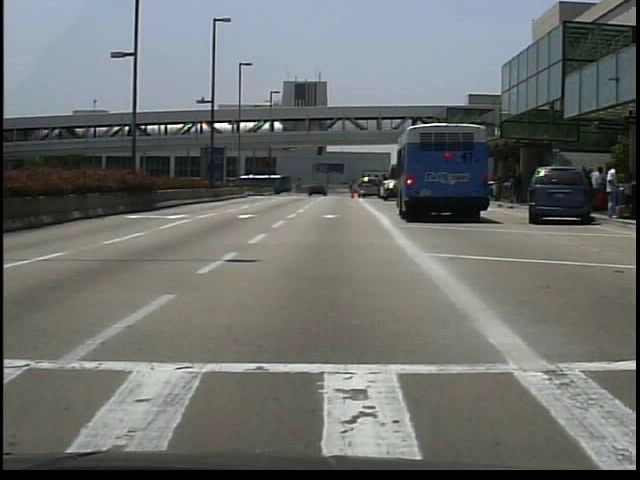person: (604, 162, 625, 220), (516, 168, 528, 203), (591, 166, 607, 189), (347, 181, 358, 196), (319, 183, 329, 199), (609, 165, 610, 214)
